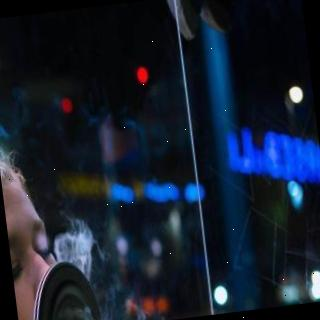smoke: (52, 222, 104, 275)
